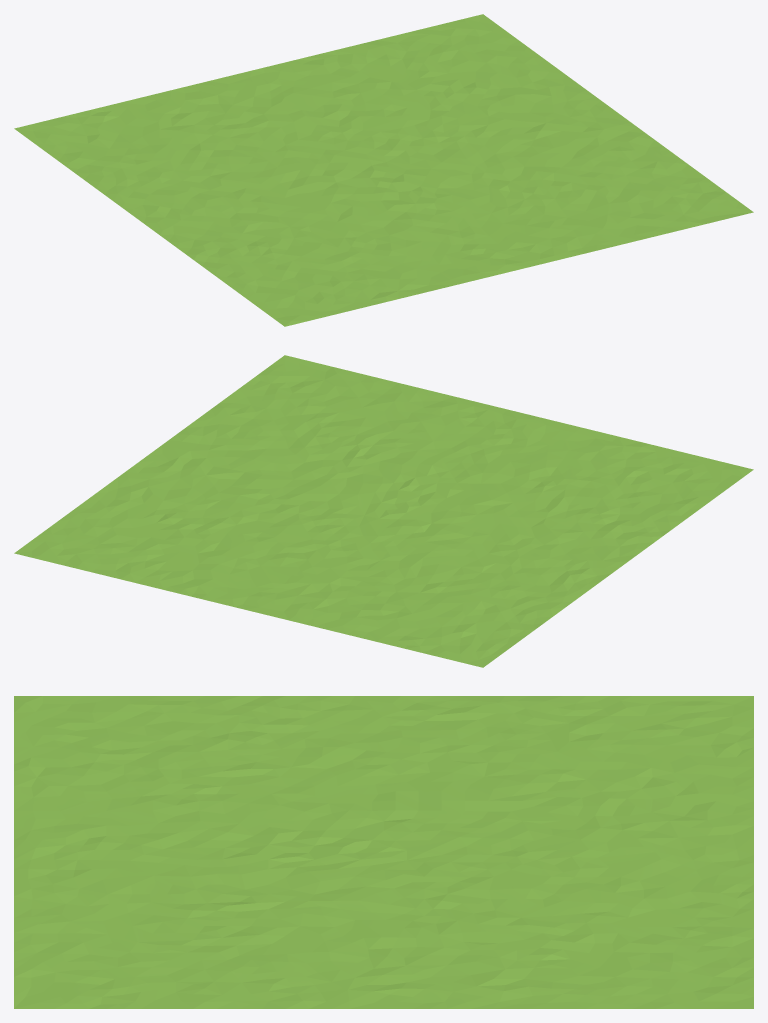
Rendered from terrain_l_a_01.glb.
3 views of the same model, one above another, from view 1: azimuth 30°, elevation 25°; view 2: azimuth 150°, elevation 25°; view 3: azimuth 270°, elevation 25° (orthographic). The views are drawn at different scales.
Parts seen in each view (by area): view 1: CPT_Terrain_L_a_01; view 2: CPT_Terrain_L_a_01; view 3: CPT_Terrain_L_a_01.
Part boxes in pixels (x1,y1,x2,y2): CPT_Terrain_L_a_01: [14, 14, 753, 326]; CPT_Terrain_L_a_01: [14, 355, 753, 667]; CPT_Terrain_L_a_01: [14, 696, 753, 1008].
Size of the model in its own units: 100 by 0.2014 by 100.
1 material, 1 textured.
